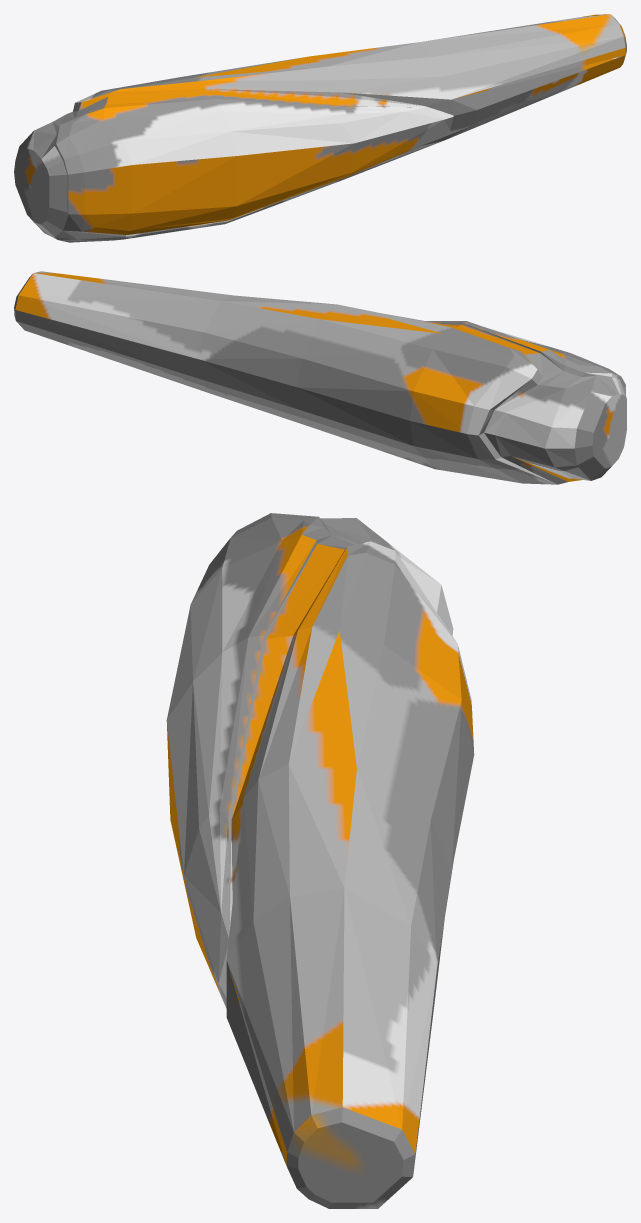
The model's file is LeftForearm.obj.
3 renders of one model, top to bottom at view 1: azimuth 30°, elevation 25°; view 2: azimuth 150°, elevation 25°; view 3: azimuth 270°, elevation 25°, orthographic. The views are drawn at different scales.
Visible parts, largest first — view 1: LeftForearm_Mesh.256; view 2: LeftForearm_Mesh.256; view 3: LeftForearm_Mesh.256.
Part boxes in pixels (<box>): LeftForearm_Mesh.256: <box>14,14,626,242</box>; LeftForearm_Mesh.256: <box>14,271,626,484</box>; LeftForearm_Mesh.256: <box>166,513,474,1208</box>.
Size of the model in its own units: 0.3042 by 0.0673 by 0.0703.
Materials: 1 (1 with a texture image).
